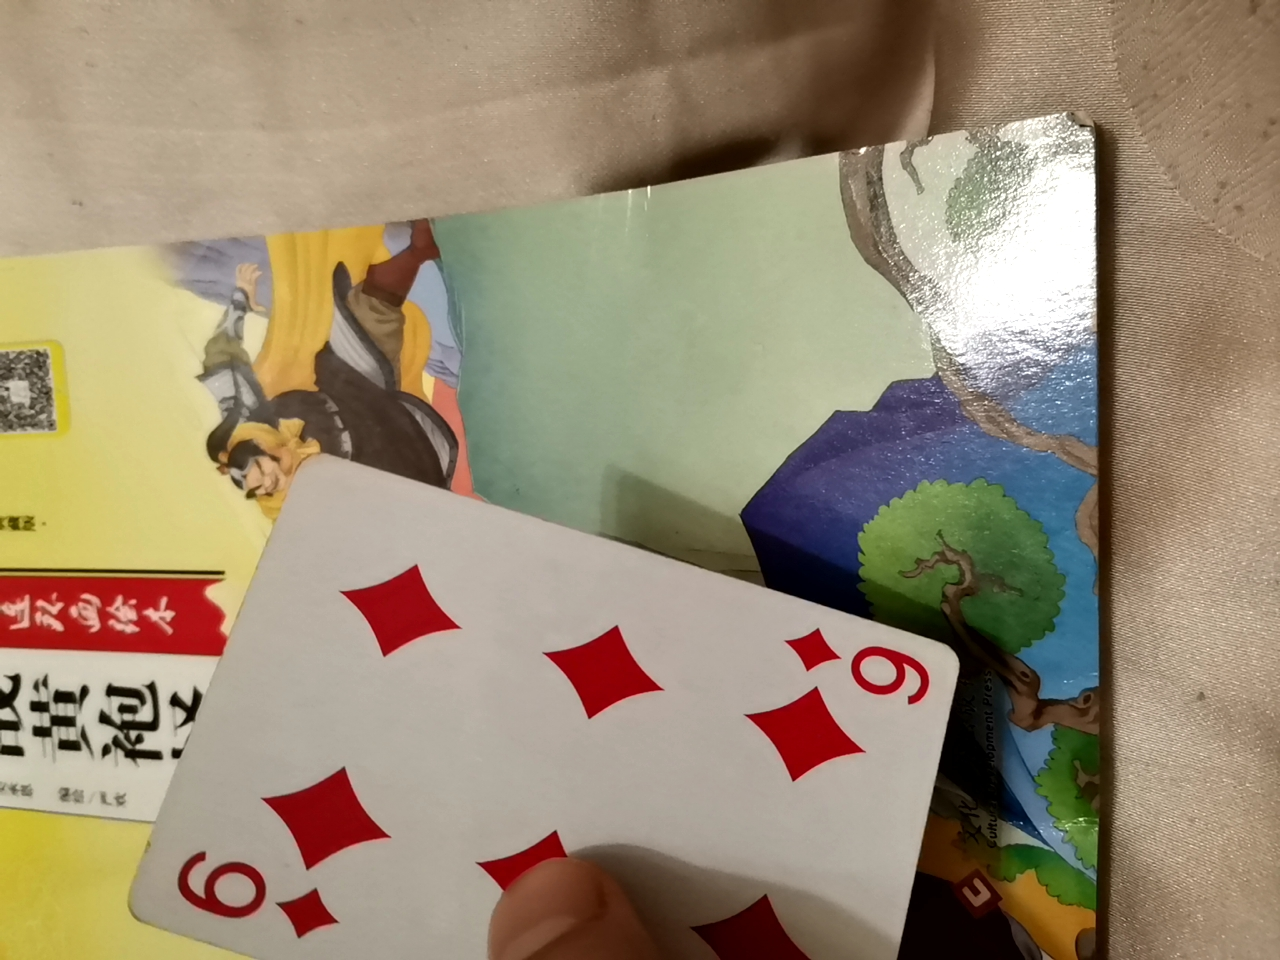fk 6: (155, 473, 956, 951)
